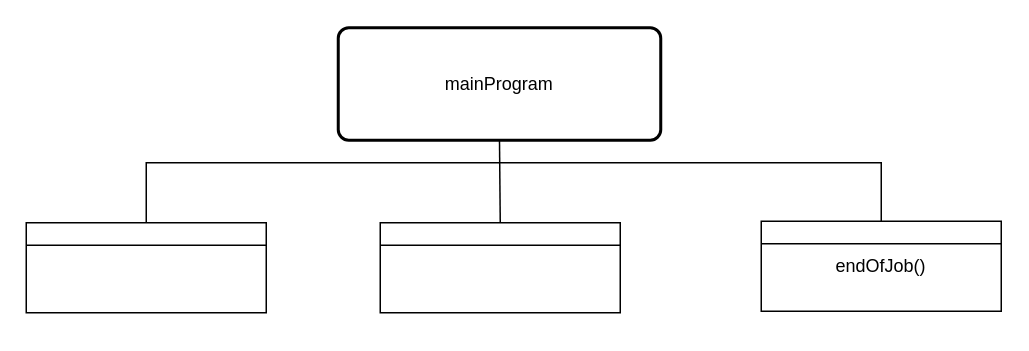
The diagram is 1029 pixels wide and 351 high, and some of its shapes have lost their labels. The shapes that lost their labels are listed below. From the top down, each one's centre as x and y in pixels, then its label:
At point (145, 267): "housekeeping()".
At point (499, 267): "detailLoop()".
